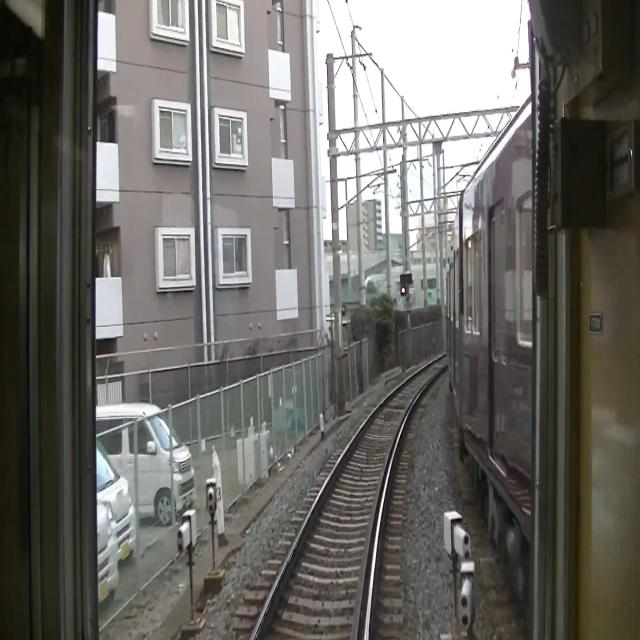rail-track: (255, 356, 446, 639), (358, 496, 380, 639)
